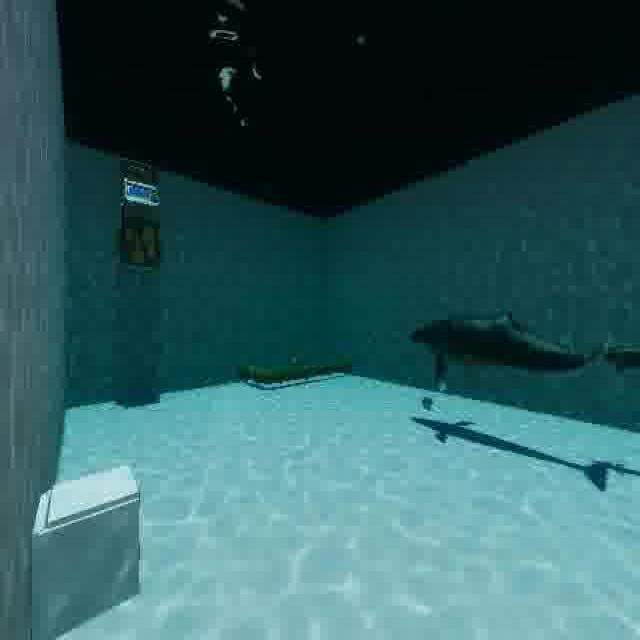Control Panel: (110, 147, 172, 290)
Docking Station: (27, 443, 163, 631)
Pipe: (230, 352, 370, 396)
Whale: (407, 299, 600, 403), (603, 317, 640, 389)
